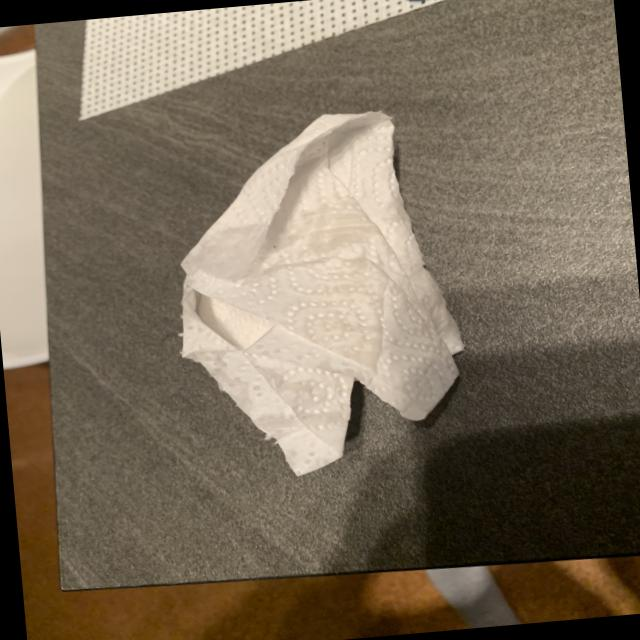organic waste: (142, 96, 475, 493)
